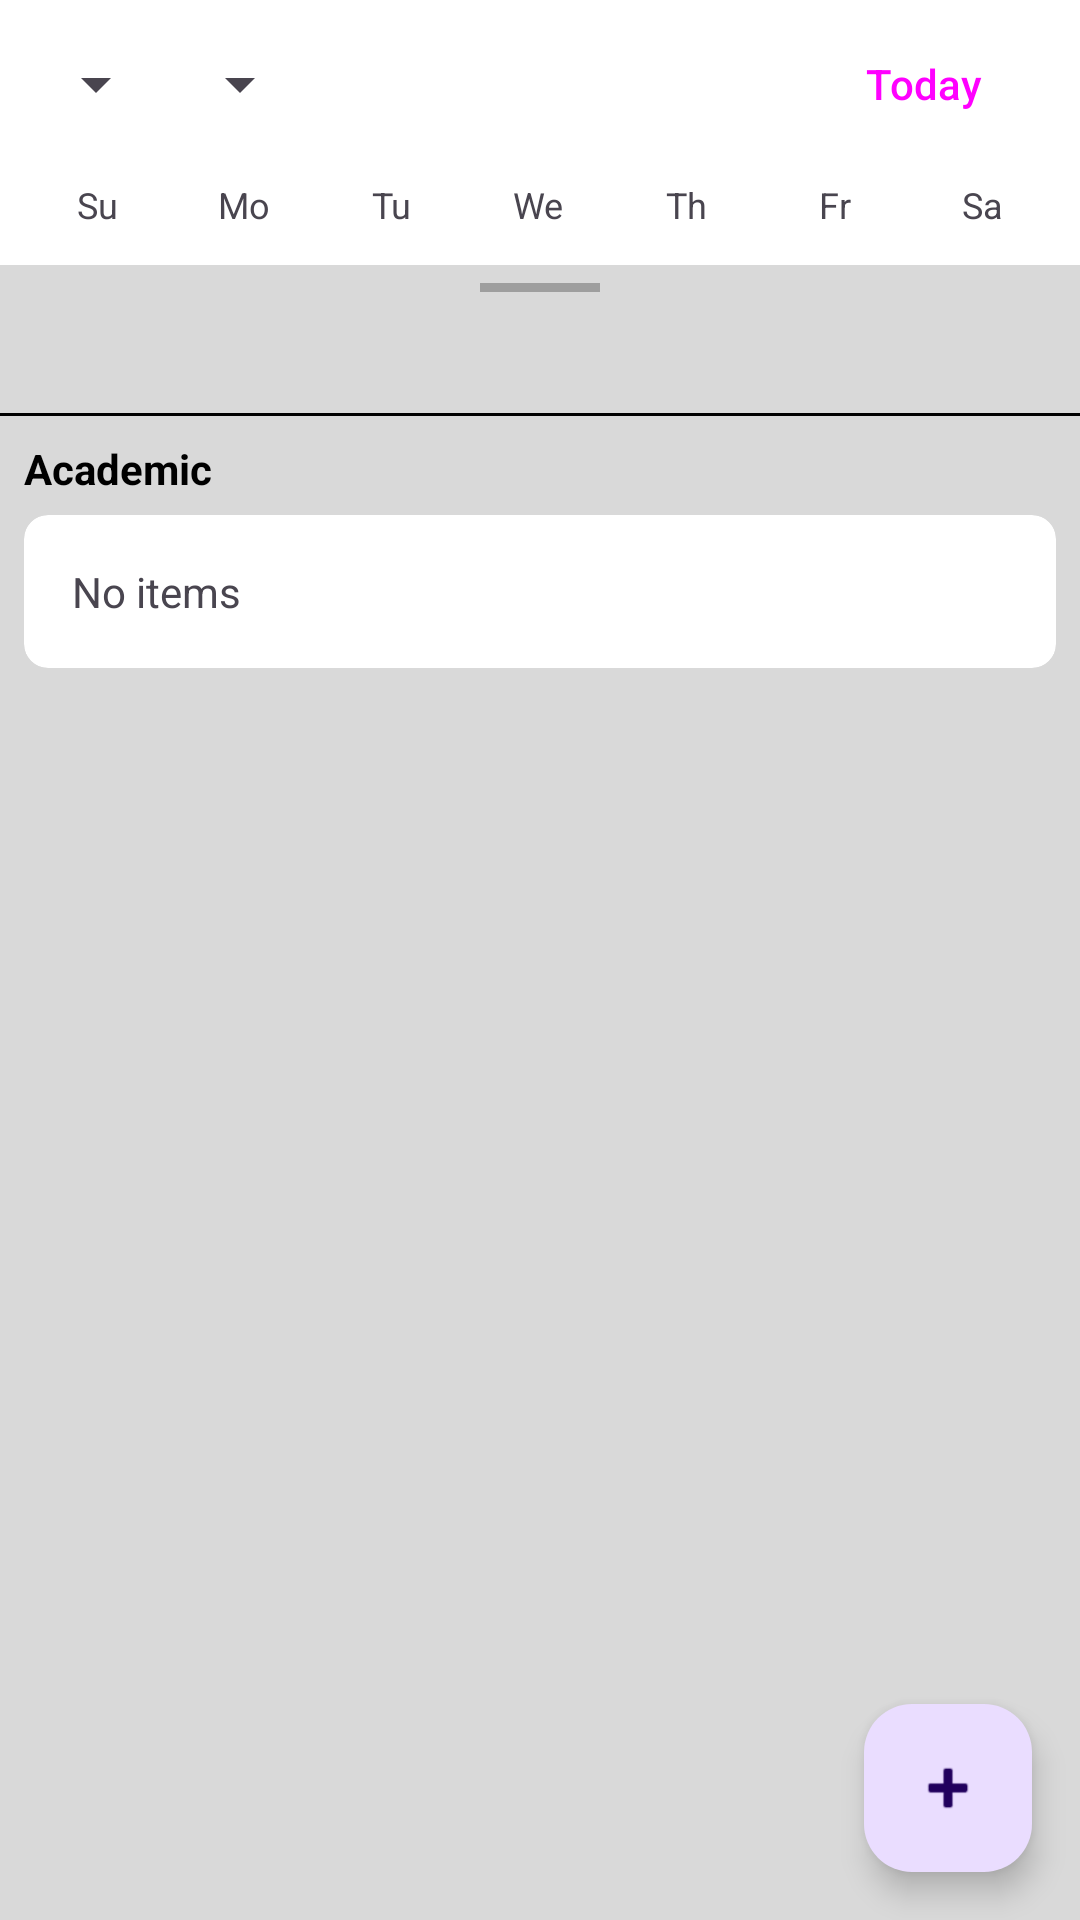

Named icons in this screenshot (1080*1920) and their centers, [x,y]:
Add event: [948,1788]
